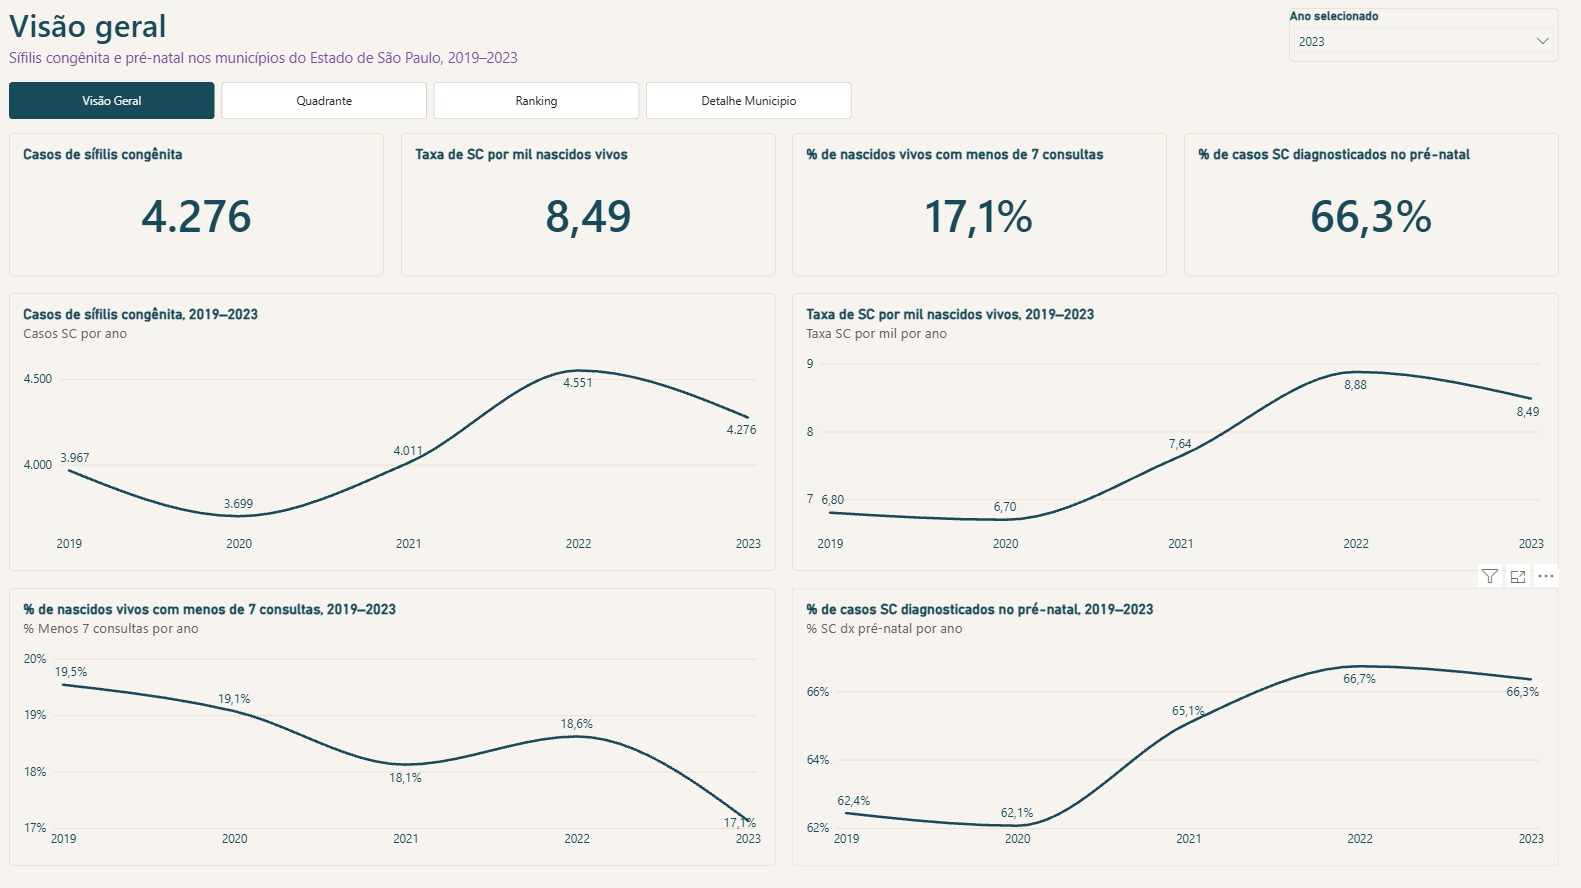

This screenshot's page, from the dashboard's own definition file:
{"tool":"powerbi","page":{"name":"Visão Geral","canvas":[1920,1080],"ordinal":0},"visuals":[{"type":"textbox","box":[40,70,1400,30],"z":0},{"type":"textbox","box":[40,18,1300,56],"z":1000},{"type":"pageNavigator","box":[40,112,1000,44],"z":2000},{"type":"slicer","title":"Ano selecionado","fields":{"Values":["tabela_final.ano"]},"box":[1560,24,320,64],"z":3000},{"type":"card","title":"Casos de sífilis congênita","fields":{"Values":["tabela_final.Casos SC"]},"box":[40,172,445,170],"z":4000},{"type":"card","title":"Taxa de SC por mil nascidos vivos","fields":{"Values":["tabela_final.Taxa Sifilis por Mil"]},"box":[505,172,445,170],"z":5000},{"type":"card","title":"% de nascidos vivos com menos de 7 consultas","fields":{"Values":["tabela_final.% Menos 7 Consultas"]},"box":[970,172,445,170],"z":6000},{"type":"card","title":"% de casos SC diagnosticados no pré-natal","fields":{"Values":["tabela_final.% SC Dx Pré-natal"]},"box":[1435,172,445,170],"z":7000},{"type":"lineChart","title":"Casos de sífilis congênita, 2019–2023","fields":{"Category":["tabela_final.ano"],"Y":["tabela_final.Casos SC"]},"box":[40,362,910,330],"z":8000},{"type":"lineChart","title":"Taxa de SC por mil nascidos vivos, 2019–2023","fields":{"Category":["tabela_final.ano"],"Y":["tabela_final.Taxa Sifilis por Mil"]},"box":[970,362,910,330],"z":9000},{"type":"lineChart","title":"% de nascidos vivos com menos de 7 consultas, 2019–2023","fields":{"Category":["tabela_final.ano"],"Y":["tabela_final.% Menos 7 Consultas"]},"box":[40,712,910,330],"z":10000},{"type":"lineChart","title":"% de casos SC diagnosticados no pré-natal, 2019–2023","fields":{"Category":["tabela_final.ano"],"Y":["tabela_final.% SC Dx Pré-natal"]},"box":[970,712,910,330],"z":11000}]}

Visuals, with their boxes in screenshot pixels (x1, y1, x2, y2), scaled from the page's 1920x1080 canvas onto the 1581x888 screenshot:
textbox: 33 58 1186 82
textbox: 33 15 1103 61
pageNavigator: 33 92 856 128
"Ano selecionado" slicer: 1285 20 1548 72
"Casos de sífilis congênita" card: 33 141 399 281
"Taxa de SC por mil nascidos vivos" card: 416 141 782 281
"% de nascidos vivos com menos de 7 consultas" card: 799 141 1165 281
"% de casos SC diagnosticados no pré-natal" card: 1182 141 1548 281
"Casos de sífilis congênita, 2019–2023" lineChart: 33 298 782 569
"Taxa de SC por mil nascidos vivos, 2019–2023" lineChart: 799 298 1548 569
"% de nascidos vivos com menos de 7 consultas, 2019–2023" lineChart: 33 585 782 857
"% de casos SC diagnosticados no pré-natal, 2019–2023" lineChart: 799 585 1548 857
